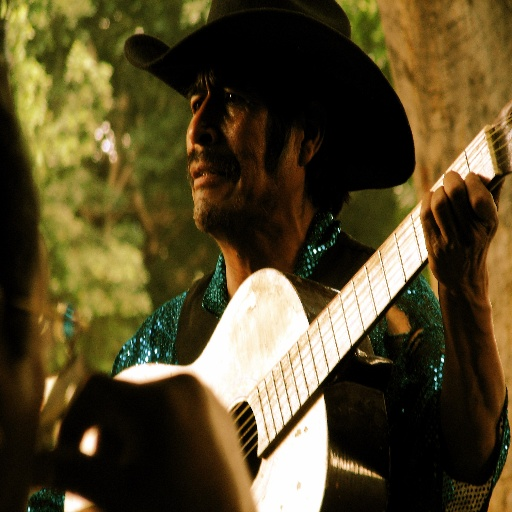hand: (29, 369, 244, 511), (419, 170, 504, 284)
